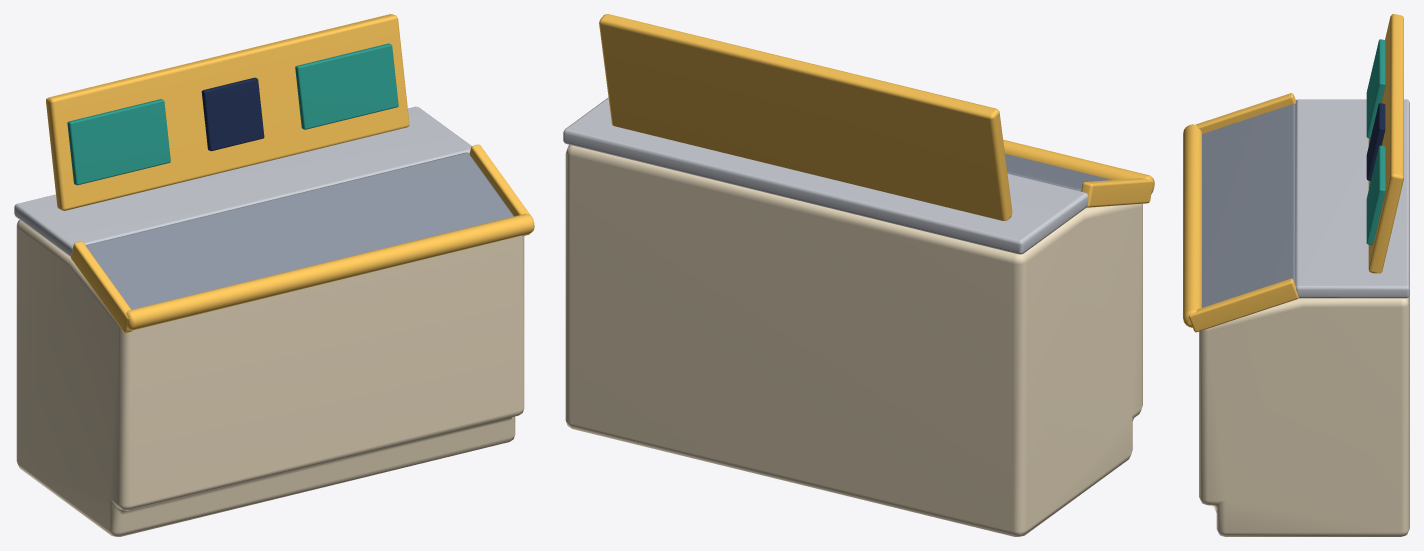
File: Console_CommsPower.fbx
The picture shows the model from 3 angles, left to right: view 1: azimuth 30°, elevation 25°; view 2: azimuth 150°, elevation 25°; view 3: azimuth 270°, elevation 25°; orthographic projection. The views are drawn at different scales.
Visible parts, largest first — view 1: Console_CommsPower.Body, Console_CommsPower.Panel, Console_CommsPower.Board, Console_CommsPower.Top, Console_CommsPower.Rim, Console_CommsPower.Screen_R, Console_CommsPower.Screen_L, Console_CommsPower.Icon; view 2: Console_CommsPower.Body, Console_CommsPower.Board, Console_CommsPower.Top, Console_CommsPower.Rim, Console_CommsPower.Panel; view 3: Console_CommsPower.Body, Console_CommsPower.Top, Console_CommsPower.Panel, Console_CommsPower.Rim, Console_CommsPower.Board, Console_CommsPower.Screen_R, Console_CommsPower.Screen_L, Console_CommsPower.Icon.
Boxes of the visible parts, left/top/right/bottom form: Console_CommsPower.Body: left=16, top=220, right=524, bottom=536; Console_CommsPower.Panel: left=85, top=152, right=513, bottom=309; Console_CommsPower.Board: left=46, top=14, right=409, bottom=210; Console_CommsPower.Top: left=14, top=106, right=471, bottom=256; Console_CommsPower.Rim: left=71, top=144, right=534, bottom=332; Console_CommsPower.Screen_R: left=295, top=43, right=398, bottom=129; Console_CommsPower.Screen_L: left=67, top=99, right=170, bottom=185; Console_CommsPower.Icon: left=201, top=77, right=264, bottom=151; Console_CommsPower.Body: left=565, top=144, right=1142, bottom=536; Console_CommsPower.Board: left=599, top=14, right=1012, bottom=220; Console_CommsPower.Top: left=563, top=97, right=1088, bottom=254; Console_CommsPower.Rim: left=1003, top=139, right=1154, bottom=207; Console_CommsPower.Panel: left=1005, top=154, right=1111, bottom=191; Console_CommsPower.Body: left=1199, top=295, right=1409, bottom=536; Console_CommsPower.Top: left=1295, top=99, right=1409, bottom=298; Console_CommsPower.Panel: left=1202, top=104, right=1295, bottom=307; Console_CommsPower.Rim: left=1183, top=93, right=1298, bottom=332; Console_CommsPower.Board: left=1368, top=14, right=1403, bottom=273; Console_CommsPower.Screen_R: left=1366, top=145, right=1385, bottom=244; Console_CommsPower.Screen_L: left=1366, top=39, right=1385, bottom=138; Console_CommsPower.Icon: left=1366, top=103, right=1385, bottom=180.
Size of the model in its own units: 1.29 by 1.11 by 0.6485.
Materials: 1 (1 with a texture image).
